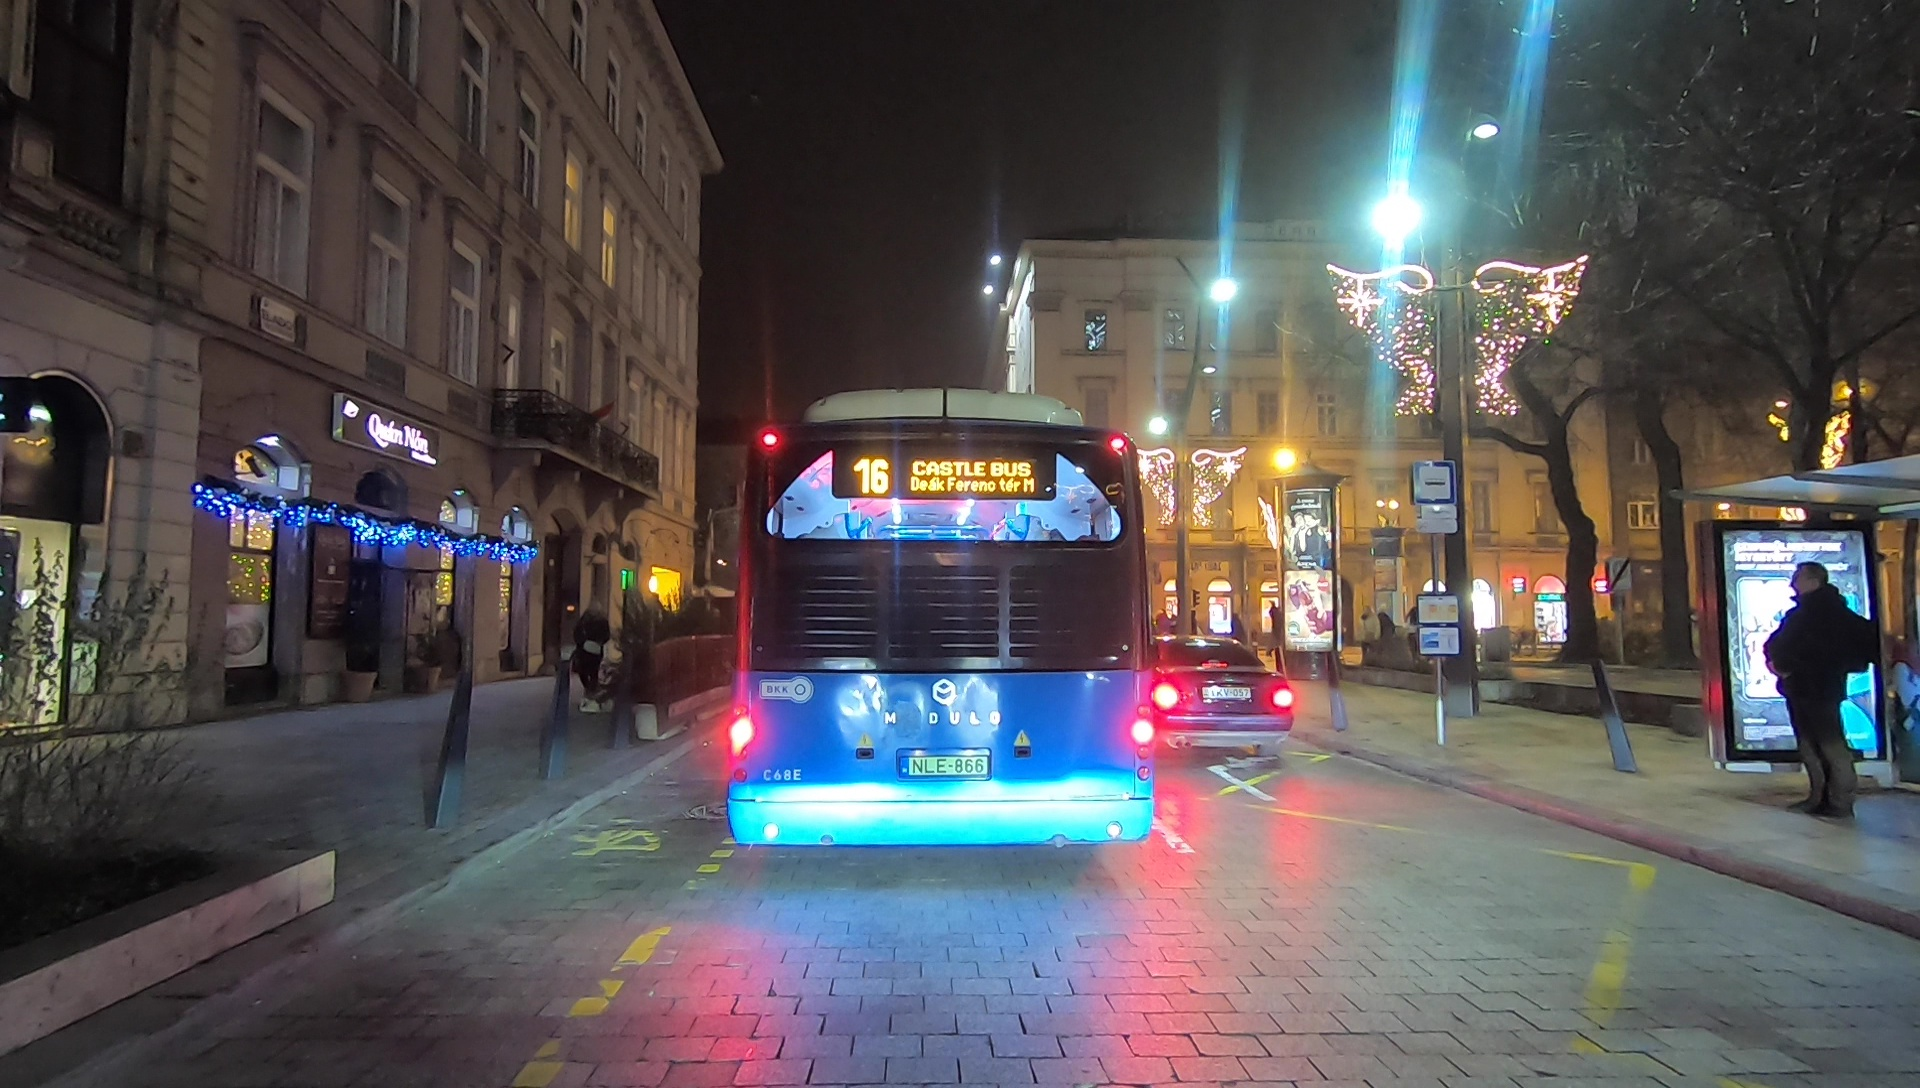person: (1760, 560, 1886, 821), (567, 600, 602, 713)
